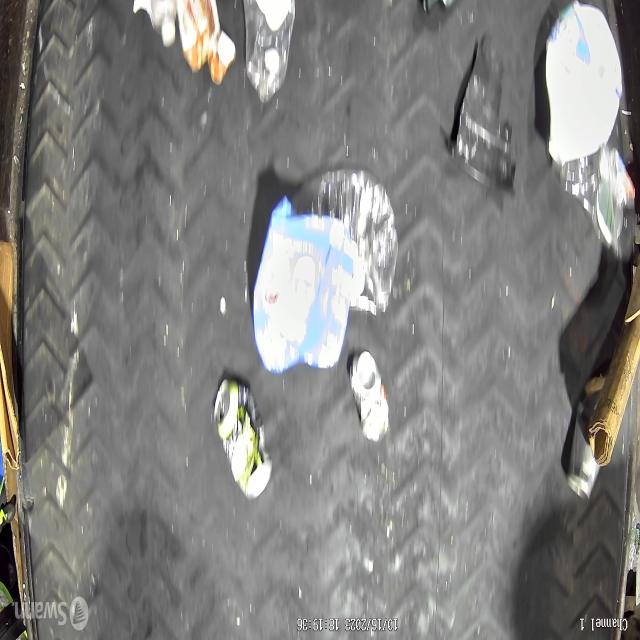can: (212, 375, 273, 500), (347, 348, 391, 445), (565, 409, 599, 503)
milk_jug: (544, 0, 624, 169)
plastic_bottle: (292, 171, 401, 315), (241, 0, 296, 107)
